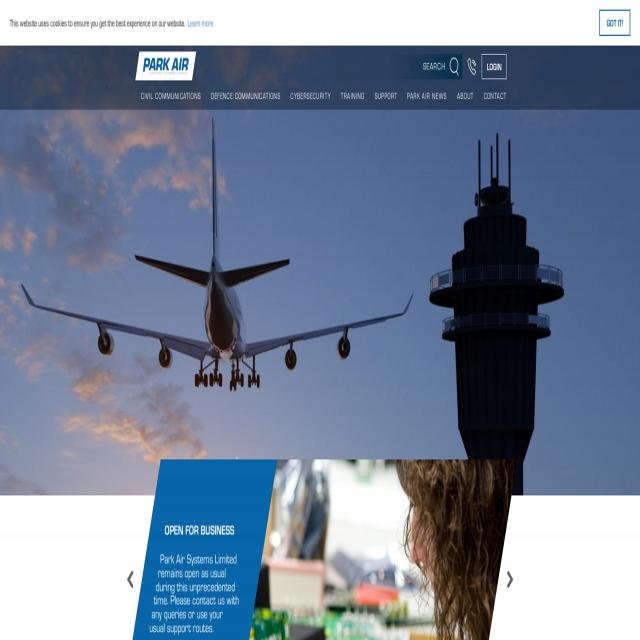button: (206, 82, 286, 110), (136, 82, 206, 110), (135, 51, 196, 80), (286, 82, 336, 110), (402, 82, 452, 110), (336, 82, 370, 110), (478, 82, 512, 110), (370, 82, 402, 110), (600, 10, 630, 37), (452, 82, 478, 110), (482, 54, 506, 79), (505, 570, 515, 588), (125, 570, 135, 588), (449, 58, 459, 76), (466, 58, 476, 76)
field: (422, 54, 446, 79)
